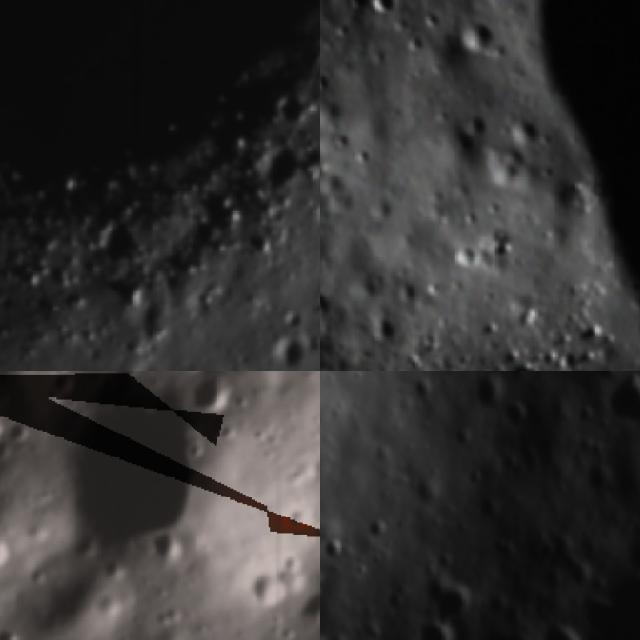crater: (63, 390, 195, 563), (451, 12, 503, 64), (254, 148, 303, 202), (82, 223, 136, 269), (188, 371, 239, 416), (606, 371, 640, 436), (242, 564, 283, 610), (401, 617, 469, 640), (150, 528, 187, 566), (508, 110, 542, 150), (477, 377, 506, 423), (537, 619, 591, 640), (370, 309, 397, 346), (361, 0, 407, 21), (6, 409, 32, 446), (451, 242, 482, 271), (625, 569, 640, 623), (465, 110, 489, 140), (320, 283, 333, 329), (353, 146, 374, 173), (336, 0, 373, 15), (320, 65, 336, 96), (402, 280, 424, 302), (0, 619, 22, 640), (334, 126, 352, 150), (0, 537, 11, 568)
